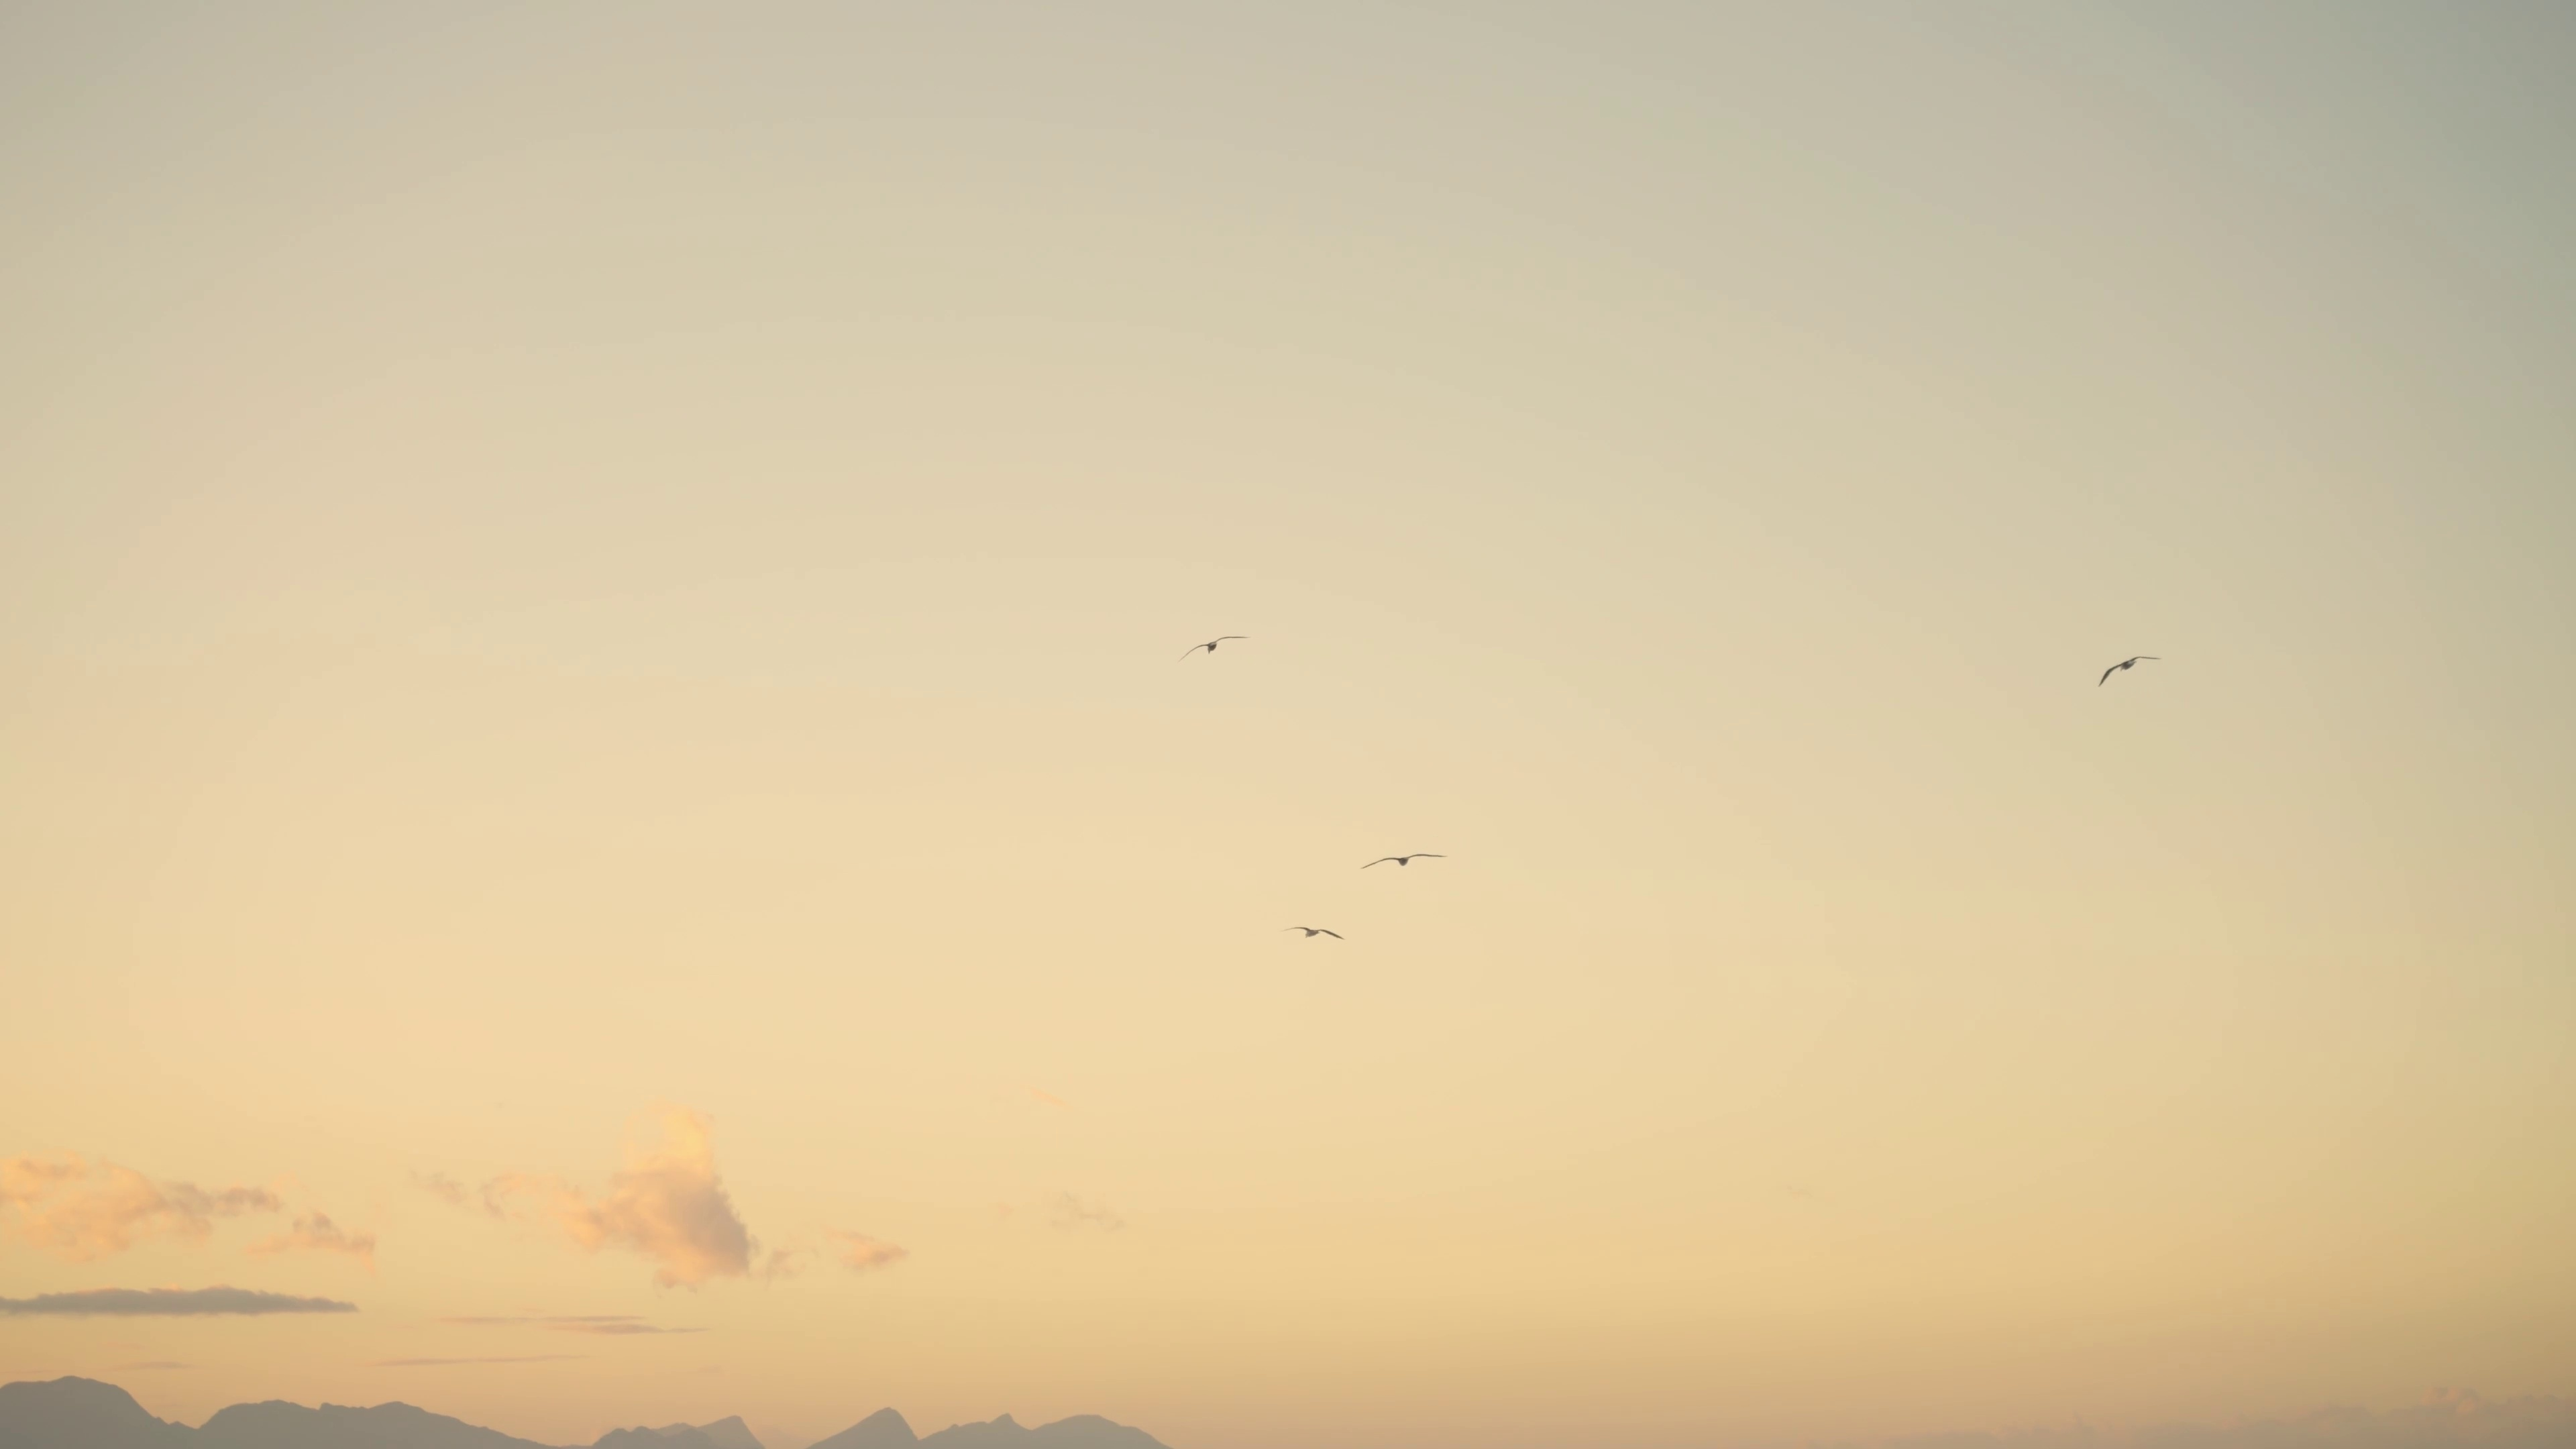bird: (2100, 656, 2160, 688), (1182, 633, 1247, 662), (1361, 849, 1445, 870), (1284, 924, 1341, 939)
